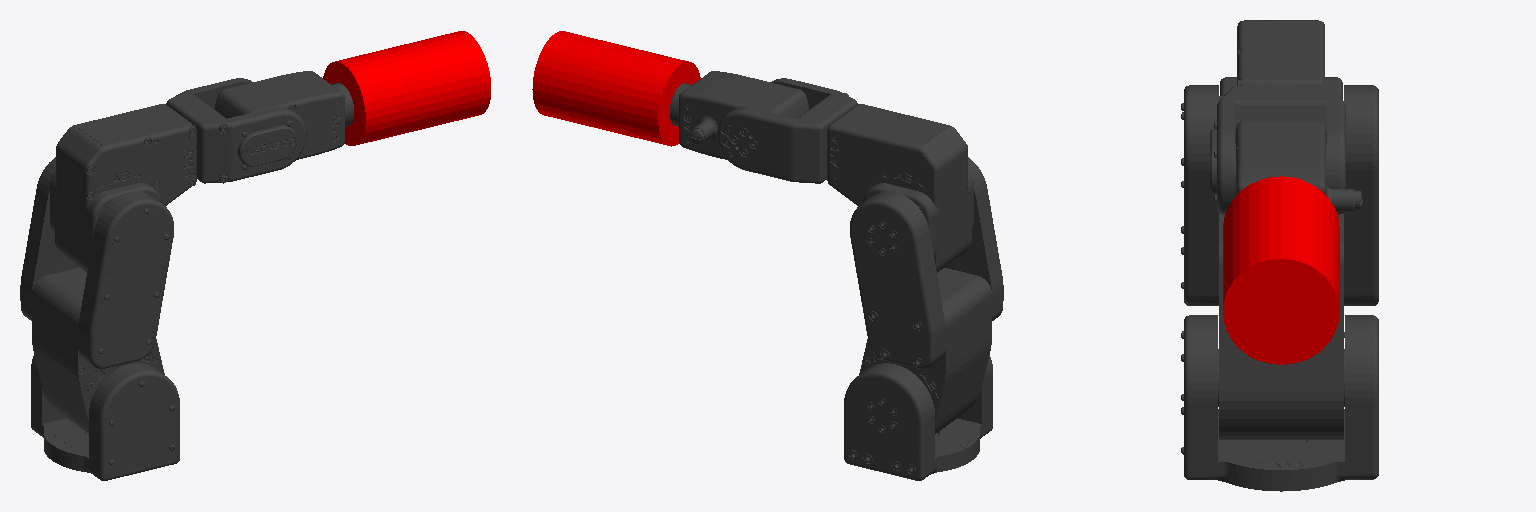
URDF robot description (meca_500_r3):
<?xml version='1.0' encoding='utf-8'?>
<robot name="meca_500_r3">

  
  <material name="meca_black">
    <color rgba="0 0 0 1" />
  </material>
  <material name="meca_silver">
    <color rgba="0.3 0.3 0.3 1" />
  </material>

  
  
  
  <link name="world" />
  <joint name="meca_in_world" type="fixed">
    
    <origin xyz="0 0 0.0" rpy="0 0 0" />
    <parent link="world" />
    <child link="meca_base_link" />
    <axis xyz="0 0 1" />    
  </joint>

  
  <link name="meca_base_link">
    <visual>
      <origin xyz="0 0 0" rpy="0 0 0" />
      <geometry>
        <mesh filename="meshes/meca_500_r3_base.dae" />
      </geometry>
      <material name="meca_black" />
    </visual>
    <collision>
      <origin xyz="0 0 0" rpy="0 0 0" />
      <geometry>
        <mesh filename="meshes/meca_500_r3_base_collision.stl" />
      </geometry>
    </collision>
  </link>

  
  <link name="meca_axis_1_link">
    <visual>
      <origin xyz="0 0 0" rpy="0 0 0" />
      <geometry>
        <mesh filename="meshes/meca_500_r3_j1.dae" />
      </geometry>
      <material name="meca_silver" />
    </visual>
    <collision>
      <origin xyz="0 0 0" rpy="0 0 0" />
      <geometry>
        <mesh filename="meshes/meca_500_r3_j1_collision.stl" />
      </geometry>
    </collision>
  </link>

  <joint name="meca_axis_1_joint" type="revolute">
    <origin xyz="0.012498 0 0.091" rpy="0 0 0" />
    <parent link="meca_base_link" />
    <child link="meca_axis_1_link" />
    <axis xyz="0 0 1" />
    <limit effort="10.0" velocity="2.61799" lower="-3.05433" upper="3.05433" />
  </joint>

  
  <link name="meca_axis_2_link">
    <visual>
      <origin xyz="0 0 0" rpy="0 0 0" />
      <geometry>
        <mesh filename="meshes/meca_500_r3_j2.dae" />
      </geometry>
      <material name="meca_silver" />
    </visual>
    <collision>
      <origin xyz="0 0 0" rpy="0 0 0" />
      <geometry>
        <mesh filename="meshes/meca_500_r3_j2_collision.stl" />
      </geometry>
    </collision>
  </link>

  <joint name="meca_axis_2_joint" type="revolute">
    <origin xyz="0 0 0.044" rpy="0 0 0" />
    <parent link="meca_axis_1_link" />
    <child link="meca_axis_2_link" />
    <axis xyz="0 1 0" />
    <limit effort="10.0" velocity="2.61799" lower="-1.22173048" upper="1.5708" />
  </joint>

  
  <link name="meca_axis_3_link">
    <visual>
      <origin xyz="0 0 0" rpy="0 0 0" />
      <geometry>
        <mesh filename="meshes/meca_500_r3_j3.dae" />
      </geometry>
      <material name="meca_silver" />
    </visual>
    <collision>
      <origin xyz="0 0 0" rpy="0 0 0" />
      <geometry>
        <mesh filename="meshes/meca_500_r3_j3_collision.stl" />
      </geometry>
    </collision>
  </link>

  <joint name="meca_axis_3_joint" type="revolute">
    <origin xyz="0 0 0.135" rpy="0 0 0" />
    <parent link="meca_axis_2_link" />
    <child link="meca_axis_3_link" />
    <axis xyz="0 1 0" />
    <limit effort="10.0" velocity="3.14159" lower="-2.35619" upper="1.22173048" />
  </joint>

  
  <link name="meca_axis_4_link">
    <visual>
      <origin xyz="0 0 0" rpy="0 0 0" />
      <geometry>
        <mesh filename="meshes/meca_500_r3_j4.dae" />
      </geometry>
      <material name="meca_silver" />
    </visual>
    <collision>
      <origin xyz="0 0 0" rpy="0 0 0" />
      <geometry>
        <mesh filename="meshes/meca_500_r3_j4_collision.stl" />
      </geometry>
    </collision>
  </link>

  <joint name="meca_axis_4_joint" type="revolute">
    <origin xyz="0 0 0.038" rpy="0 0 0" />
    <parent link="meca_axis_3_link" />
    <child link="meca_axis_4_link" />
    <axis xyz="1 0 0" />
    <limit effort="10.0" velocity="5.23599" lower="-2.96706" upper="2.96706" />
  </joint>

  
  <link name="meca_axis_5_link">
    <visual>
      <origin xyz="0 0 0" rpy="0 0 0" />
      <geometry>
        <mesh filename="meshes/meca_500_r3_j5.dae" />
      </geometry>
      <material name="meca_silver" />
    </visual>
    <collision>
      <origin xyz="0 0 0" rpy="0 0 0" />
      <geometry>
        <mesh filename="meshes/meca_500_r3_j5_collision.stl" />
      </geometry>
    </collision>
  </link>

  <joint name="meca_axis_5_joint" type="revolute">
    <origin xyz="0.12 0 0" rpy="0 0 0" />
    <parent link="meca_axis_4_link" />
    <child link="meca_axis_5_link" />
    <axis xyz="0 1 0" />
    <limit effort="10.0" velocity="5.23599" lower="-2.00713" upper="2.00713" />
  </joint>

  
  <link name="meca_axis_6_link">
    <visual>
      <origin xyz="0 0 0" rpy="0 0 0" />
      <geometry>
        <mesh filename="meshes/meca_500_r3_j6.dae" />
      </geometry>
      <material name="meca_silver" />
    </visual>
    <collision>
      <origin xyz="0 0 0" rpy="0 0 0" />
      <geometry>
        <mesh filename="meshes/meca_500_r3_j6_collision.stl" />
      </geometry>
    </collision>
  </link>

  <joint name="meca_axis_6_joint" type="revolute">
    <origin xyz="0.07 0 0" rpy="0 0 0" />
    <parent link="meca_axis_5_link" />
    <child link="meca_axis_6_link" />
    <axis xyz="1 0 0" />
    <limit effort="10.0" velocity="8.72665" lower="-3.14159" upper="3.14159" />
  </joint>

<link name="meca_simple_tool_tool_base_link">
    <visual>
      <geometry>
        <cylinder length="0.1" radius="0.03" />
      </geometry>
      <origin rpy="0 0 0" xyz="0 0 0.05" />
      <material name="red">
        <color rgba="1 0 0 1" />
      </material>
    </visual>
    <collision>
      <geometry>
        <cylinder length="0.1" radius="0.03" />
      </geometry>
      <origin rpy="0 0 0" xyz="0 0 0.05" />
    </collision>
  </link>
  <link name="meca_simple_tool_tool_tip_link" />
  <joint name="tool_base_to_tip" type="fixed">
    <parent link="meca_simple_tool_tool_base_link" />
    <child link="meca_simple_tool_tool_tip_link" />
    <origin rpy="0 0 0" xyz="0 0 0.05" />
  </joint>
<joint name="meca_simple_tool_attach_joint" type="fixed"><parent link="meca_axis_6_link" /><child link="meca_simple_tool_tool_base_link" /><origin xyz="0.0 0.0 0.0" rpy="0.0 1.5707963267948966 0.0" /></joint></robot>

--- Render facts (derived) ---
Views: 3 orthographic renders of the robot side by side, from view 1: azimuth 30°, elevation 25°; view 2: azimuth 150°, elevation 25°; view 3: azimuth 270°, elevation 25°.
Model meca_500_r3 with 10 links and 9 joints (6 revolute, 3 fixed), rooted at world, posed every joint at zero.
Links seen in each view (by area): view 1: meca_axis_2_link, meca_axis_3_link, meca_simple_tool_tool_base_link, meca_axis_1_link, meca_axis_4_link, meca_axis_5_link; view 2: meca_axis_2_link, meca_axis_3_link, meca_simple_tool_tool_base_link, meca_axis_1_link, meca_axis_4_link, meca_axis_5_link; view 3: meca_axis_2_link, meca_simple_tool_tool_base_link, meca_axis_1_link, meca_axis_4_link, meca_axis_5_link, meca_axis_3_link.
Boxes of the visible links, x1=… form: meca_axis_2_link: x1=20, y1=157, x2=173, y2=433; meca_axis_3_link: x1=50, y1=104, x2=196, y2=271; meca_simple_tool_tool_base_link: x1=323, y1=31, x2=490, y2=145; meca_axis_1_link: x1=31, y1=355, x2=179, y2=480; meca_axis_4_link: x1=166, y1=78, x2=306, y2=183; meca_axis_5_link: x1=214, y1=71, x2=353, y2=159; meca_axis_2_link: x1=850, y1=157, x2=1003, y2=433; meca_axis_3_link: x1=827, y1=104, x2=973, y2=272; meca_simple_tool_tool_base_link: x1=532, y1=31, x2=700, y2=146; meca_axis_1_link: x1=844, y1=355, x2=992, y2=480; meca_axis_4_link: x1=717, y1=78, x2=857, y2=183; meca_axis_5_link: x1=670, y1=71, x2=809, y2=159; meca_axis_2_link: x1=1181, y1=85, x2=1378, y2=439; meca_simple_tool_tool_base_link: x1=1223, y1=176, x2=1339, y2=364; meca_axis_1_link: x1=1181, y1=315, x2=1378, y2=491; meca_axis_4_link: x1=1210, y1=86, x2=1345, y2=214; meca_axis_5_link: x1=1235, y1=121, x2=1362, y2=211; meca_axis_3_link: x1=1220, y1=20, x2=1342, y2=99.
Size in the robot's own frame: 0.3325 by 0.1014 by 0.247 metres.
Meshes: 7 distinct files referenced, 6 mesh visuals loaded (6 Collada DAE); not drawn: 1 (file found but could not be loaded).
